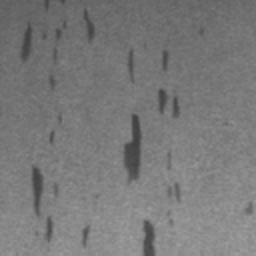Red iron sheet: (20, 0, 96, 90), (124, 88, 180, 201), (32, 165, 59, 239), (142, 220, 157, 255), (47, 113, 63, 143), (128, 50, 134, 83), (82, 227, 90, 247), (163, 50, 169, 72), (244, 204, 253, 215)
